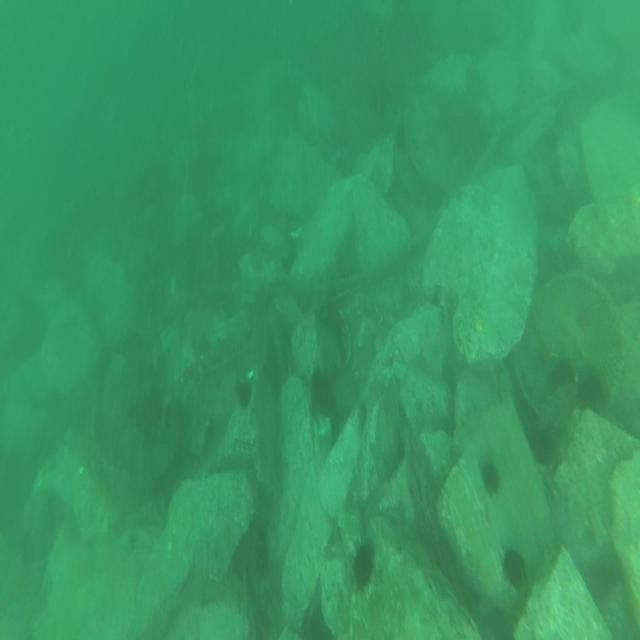echinus: (577, 364, 611, 419), (348, 538, 377, 585), (525, 423, 553, 469), (498, 544, 524, 588), (548, 357, 572, 393), (478, 456, 501, 492), (232, 380, 253, 409)
